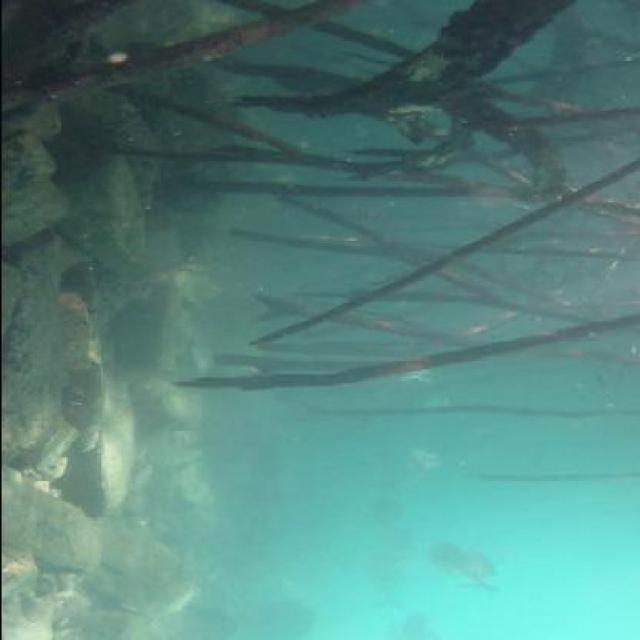Caranx_sexfasciatus_juvenile: (415, 542, 471, 583), (397, 445, 454, 484), (451, 556, 495, 606)
